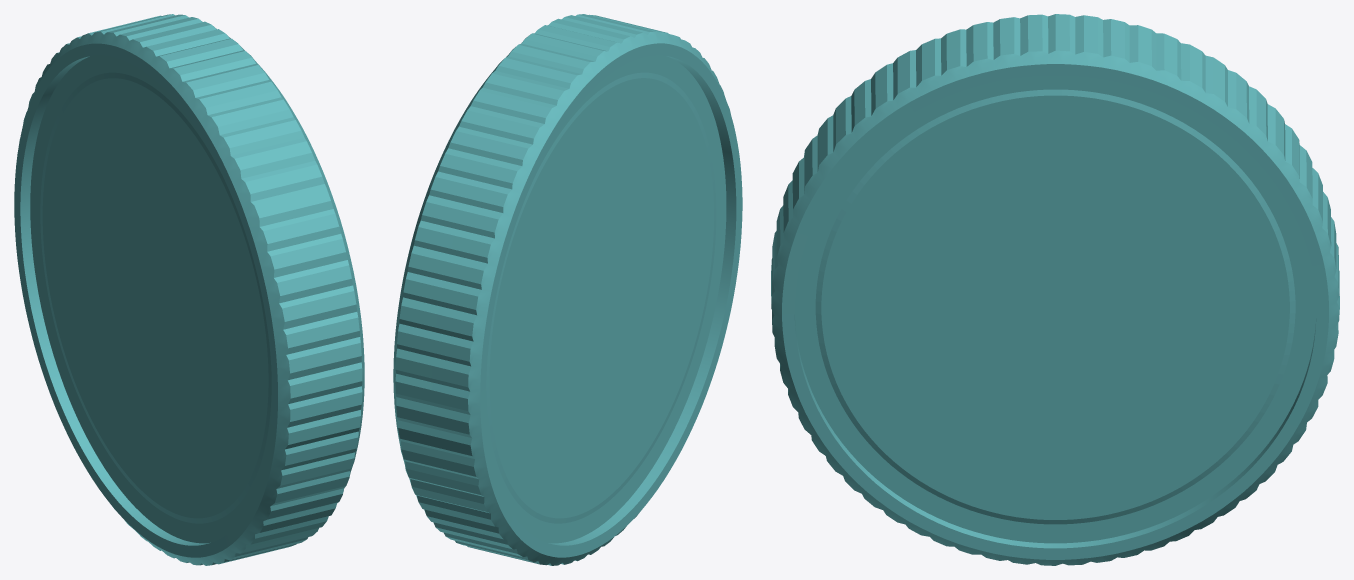
File: CoinHigh.fbx
The picture shows the model from 3 angles, left to right: view 1: azimuth 30°, elevation 25°; view 2: azimuth 150°, elevation 25°; view 3: azimuth 270°, elevation 25°; orthographic projection. The views are drawn at different scales.
Visible parts, largest first — view 1: Coin0.001; view 2: Coin0.001; view 3: Coin0.001.
Boxes of the visible parts, x1,y1,x2,y2 form: Coin0.001: [14, 14, 364, 565]; Coin0.001: [393, 14, 742, 565]; Coin0.001: [771, 14, 1339, 565].
Bounding box in the file's own units: 1.26 × 6.82 × 6.82.
Materials: 1 (1 with a texture image).
